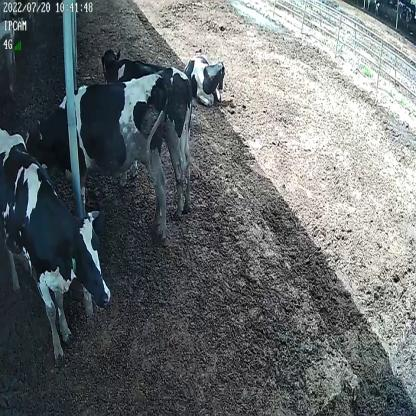cow: (0, 125, 112, 362), (23, 72, 174, 242), (101, 39, 197, 216), (184, 47, 226, 107)
